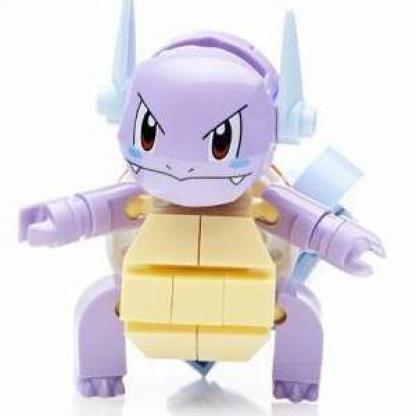Wartortle: (47, 7, 371, 405)
